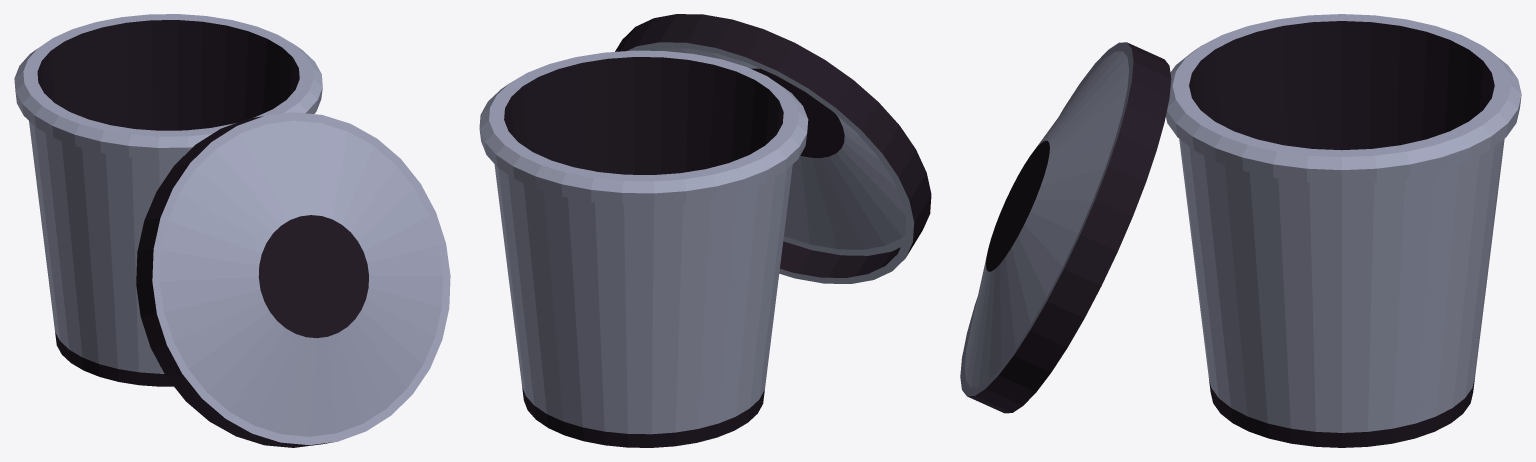
The model's file is tong sampah.fbx.
3 views of the same model, side by side, from view 1: azimuth 30°, elevation 25°; view 2: azimuth 150°, elevation 25°; view 3: azimuth 270°, elevation 25° (orthographic). The views are drawn at different scales.
Visible parts, largest first — view 1: Cylinder; view 2: Cylinder; view 3: Cylinder.
Part boxes in pixels (x1,y1,x2,y2): Cylinder: (14, 14, 450, 447); Cylinder: (479, 14, 931, 447); Cylinder: (960, 14, 1521, 447).
Size of the model in its own units: 229 by 218 by 332.
